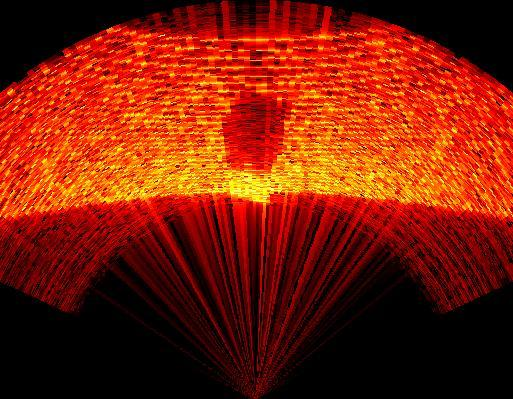box_crate: (219, 86, 290, 202)
